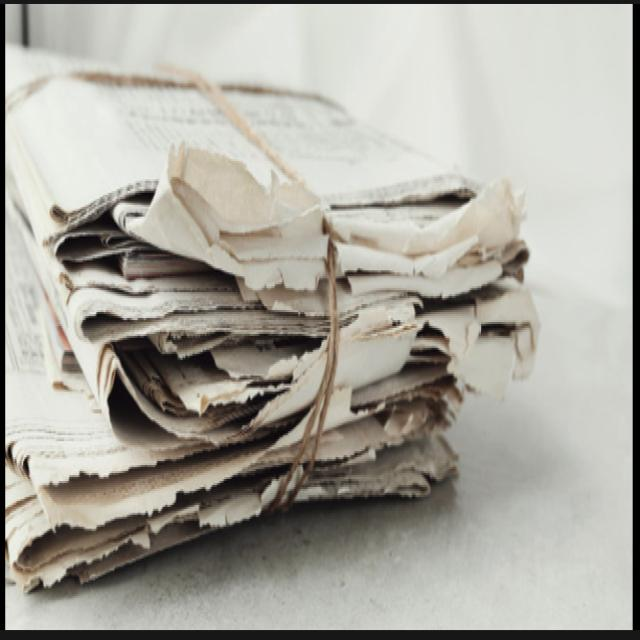Koran: (4, 42, 539, 590)
